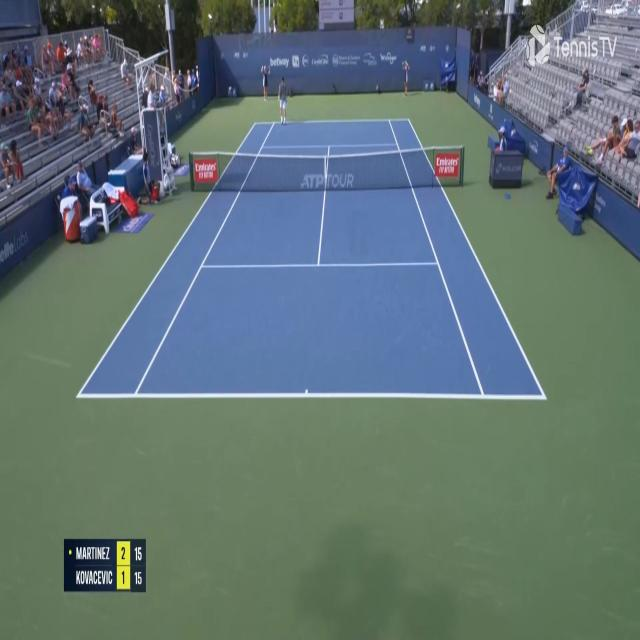tennis-player: (276, 76, 291, 126)
